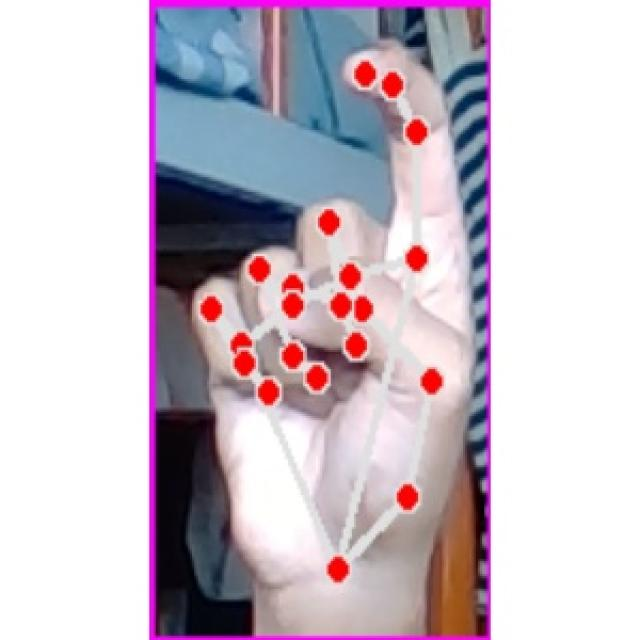X: (184, 31, 482, 604)
